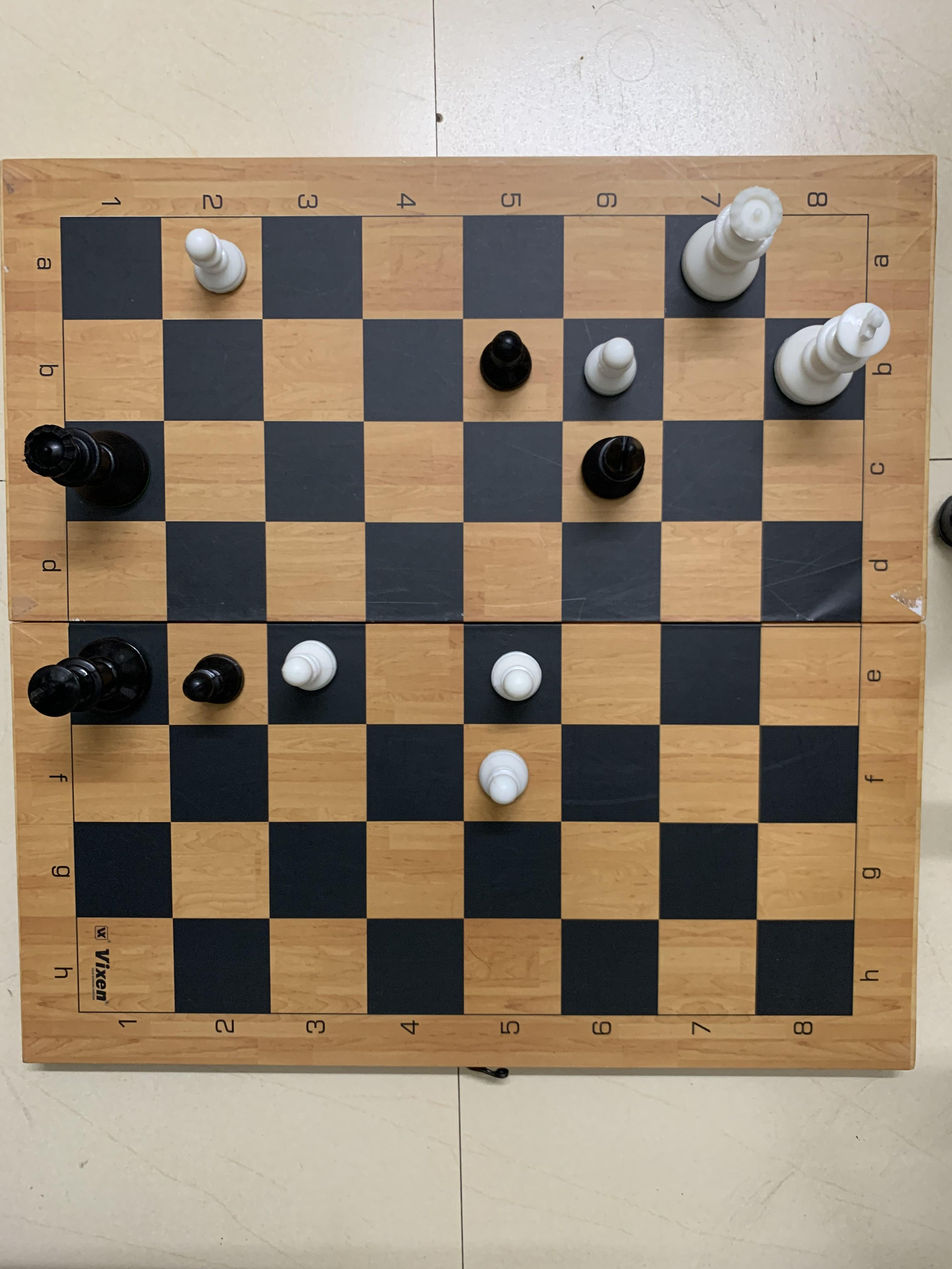black_bishop: (577, 428, 654, 518)
black_king: (13, 627, 159, 727)
black_pawn: (179, 644, 258, 713), (473, 321, 534, 402)
black_queen: (20, 418, 150, 517)
white_king: (778, 304, 898, 421)
white_pawn: (178, 220, 265, 312), (274, 624, 348, 701), (473, 643, 562, 706), (578, 328, 655, 400), (466, 744, 552, 808)
white_queen: (671, 178, 787, 312)
